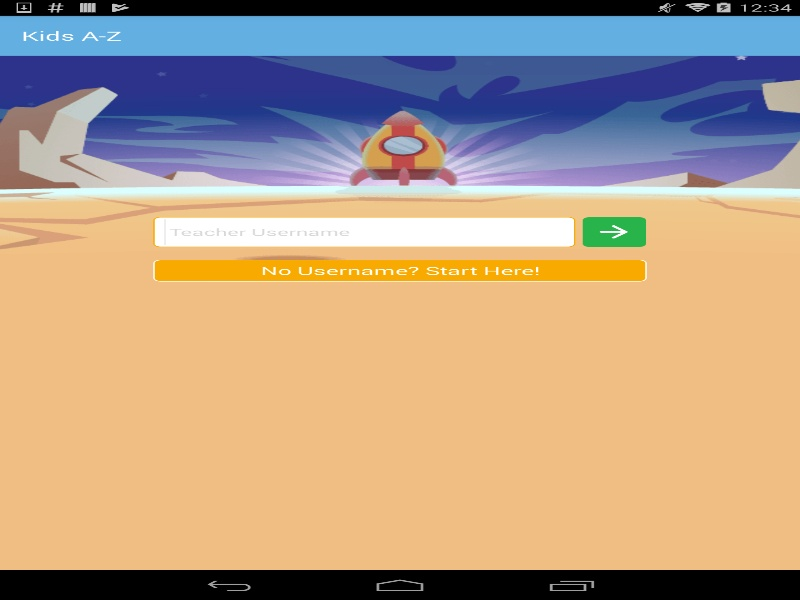Input: (153, 216, 575, 247)
